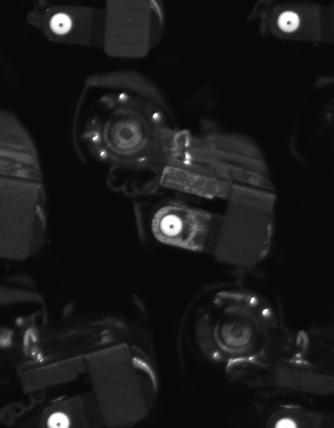fiber: (156, 209, 186, 243), (46, 9, 80, 38), (271, 8, 306, 36), (40, 409, 80, 428), (269, 414, 303, 428)
